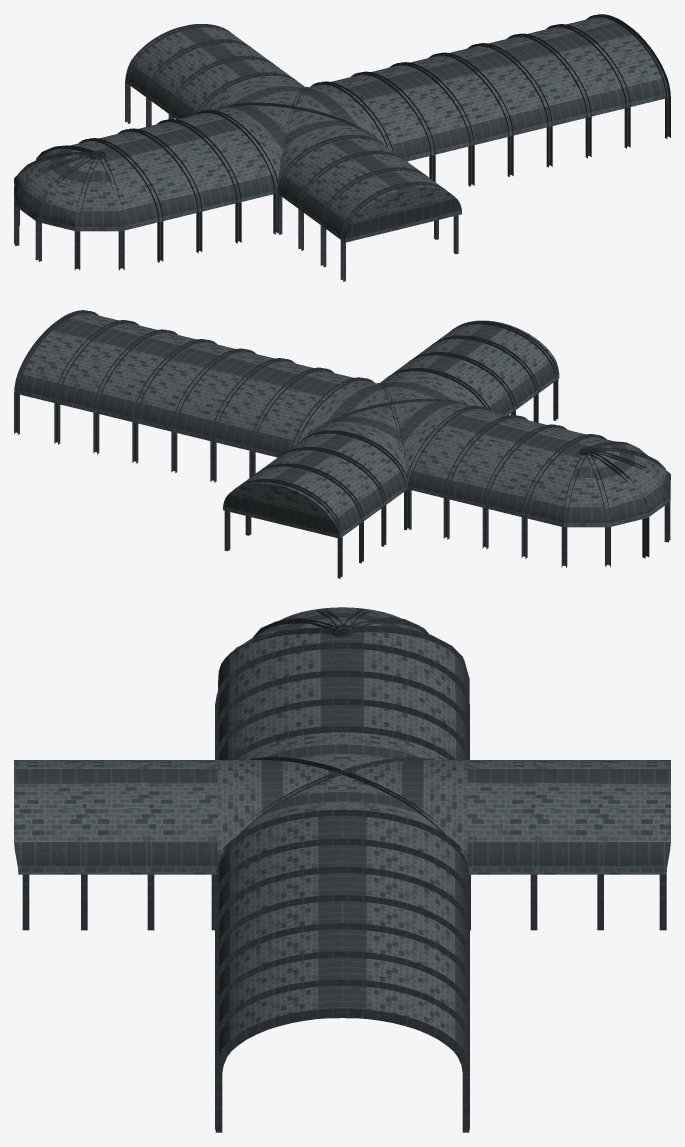
The model's file is Cathedral_Roof_1 1.fbx.
3 renders of one model, top to bottom at view 1: azimuth 30°, elevation 25°; view 2: azimuth 150°, elevation 25°; view 3: azimuth 270°, elevation 25°, orthographic. The views are drawn at different scales.
Visible parts, largest first — view 1: Roof; view 2: Roof; view 3: Roof.
Boxes of the visible parts, x1=… form: Roof: x1=14, y1=14, x2=670, y2=281; Roof: x1=14, y1=310, x2=670, y2=578; Roof: x1=14, y1=607, x2=670, y2=1132.
Size of the model in its own units: 123 by 78.89 by 16.06.
